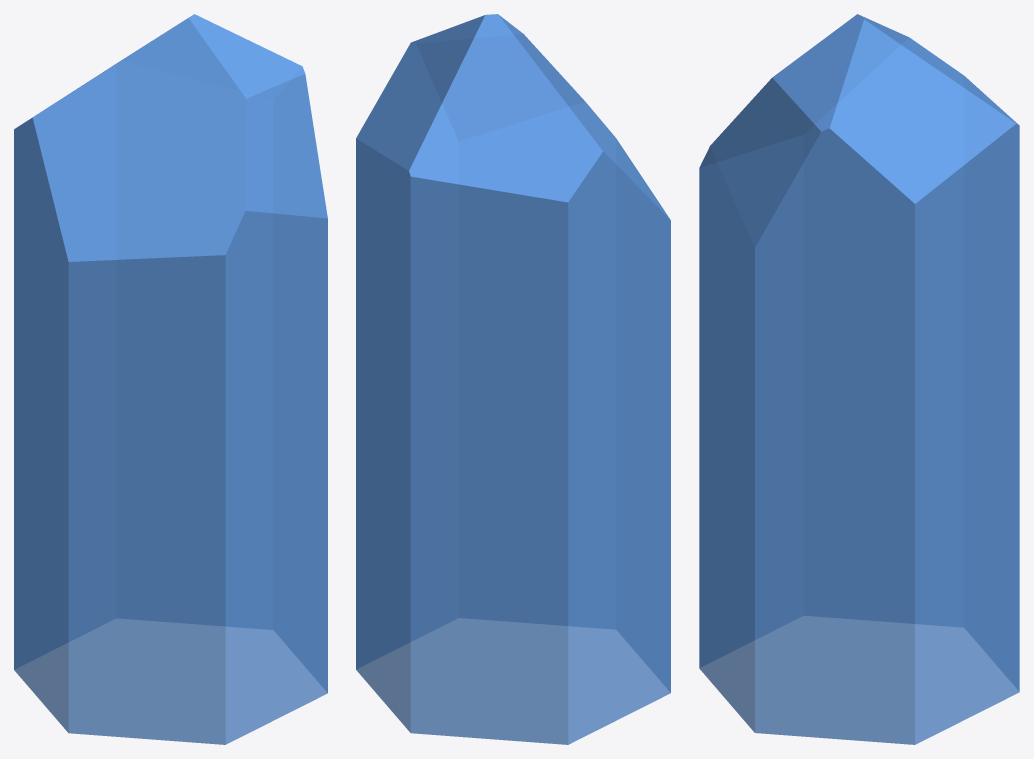
File: Crystal_m_12.fbx
The picture shows the model from 3 angles, left to right: view 1: azimuth 30°, elevation 25°; view 2: azimuth 150°, elevation 25°; view 3: azimuth 270°, elevation 25°; orthographic projection. The views are drawn at different scales.
Parts seen in each view (by area): view 1: Crystal_m_12; view 2: Crystal_m_12; view 3: Crystal_m_12.
Boxes of the visible parts, x1=… form: Crystal_m_12: x1=14, y1=14, x2=327, y2=744; Crystal_m_12: x1=356, y1=14, x2=670, y2=744; Crystal_m_12: x1=699, y1=14, x2=1019, y2=744.
Size of the model in its own units: 78.96 by 192 by 82.75.
